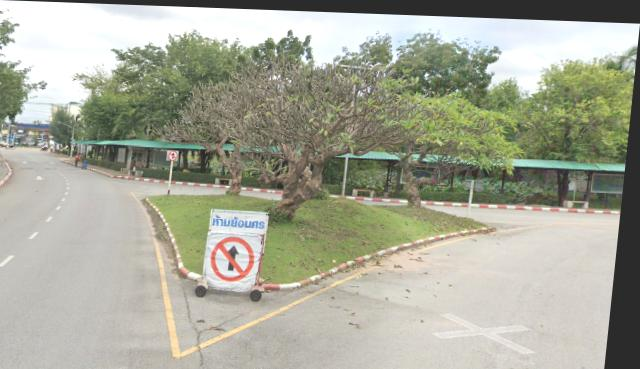not_go_straight: (212, 232, 263, 283), (171, 150, 181, 159)
